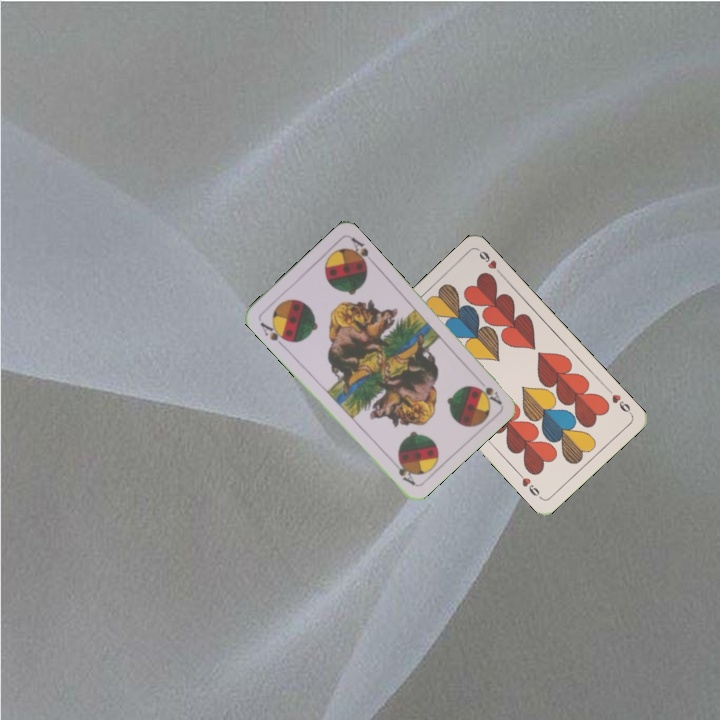H9: (603, 384, 634, 417)
SA: (256, 318, 291, 350), (472, 373, 504, 407)
